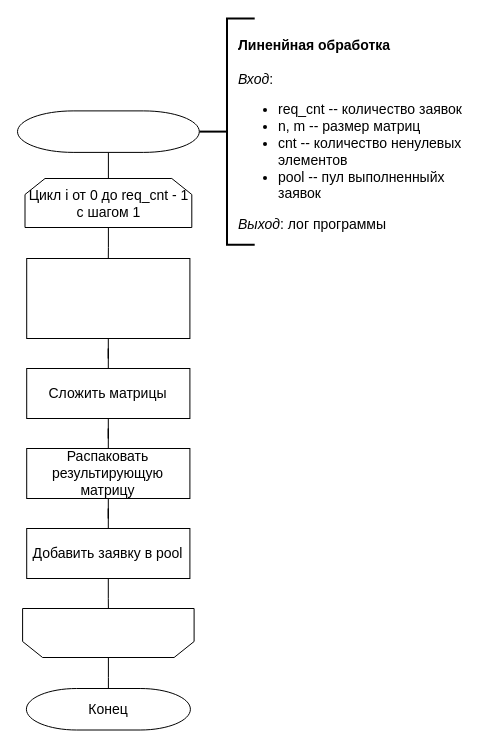
Some shapes in this 501 by 747 pixel diagram are drawn without their labels. Here are the shapes that lost their labels. From the top down, the centre of each, then its label:
At pixel 107 131: "Начало".
At pixel 108 298: "Сгенерировать 2 матрицы размером m на n с cnt ненулевых элементов".
At pixel 108 633: "Конец цикла по i".
